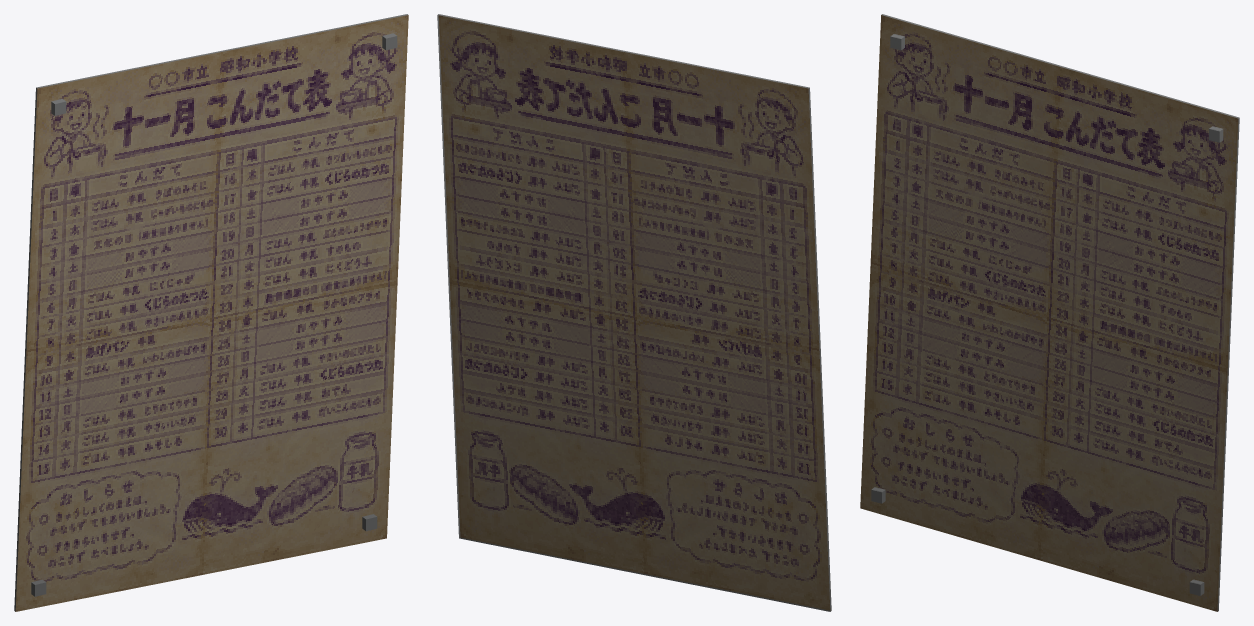
File: prop_poster-kondate-3.glb
The picture shows the model from 3 angles, left to right: view 1: azimuth 30°, elevation 25°; view 2: azimuth 150°, elevation 25°; view 3: azimuth 330°, elevation 25°; orthographic projection. The views are drawn at different scales.
Visible parts, largest first — view 1: prop_poster-kondate-3; view 2: prop_poster-kondate-3; view 3: prop_poster-kondate-3.
Boxes of the visible parts, bbox=[...] form: prop_poster-kondate-3: bbox=[14, 14, 408, 611]; prop_poster-kondate-3: bbox=[437, 14, 831, 611]; prop_poster-kondate-3: bbox=[860, 14, 1239, 611].
Size of the model in its own units: 0.4873 by 0.634 by 0.0115.
2 materials, 2 textured.
